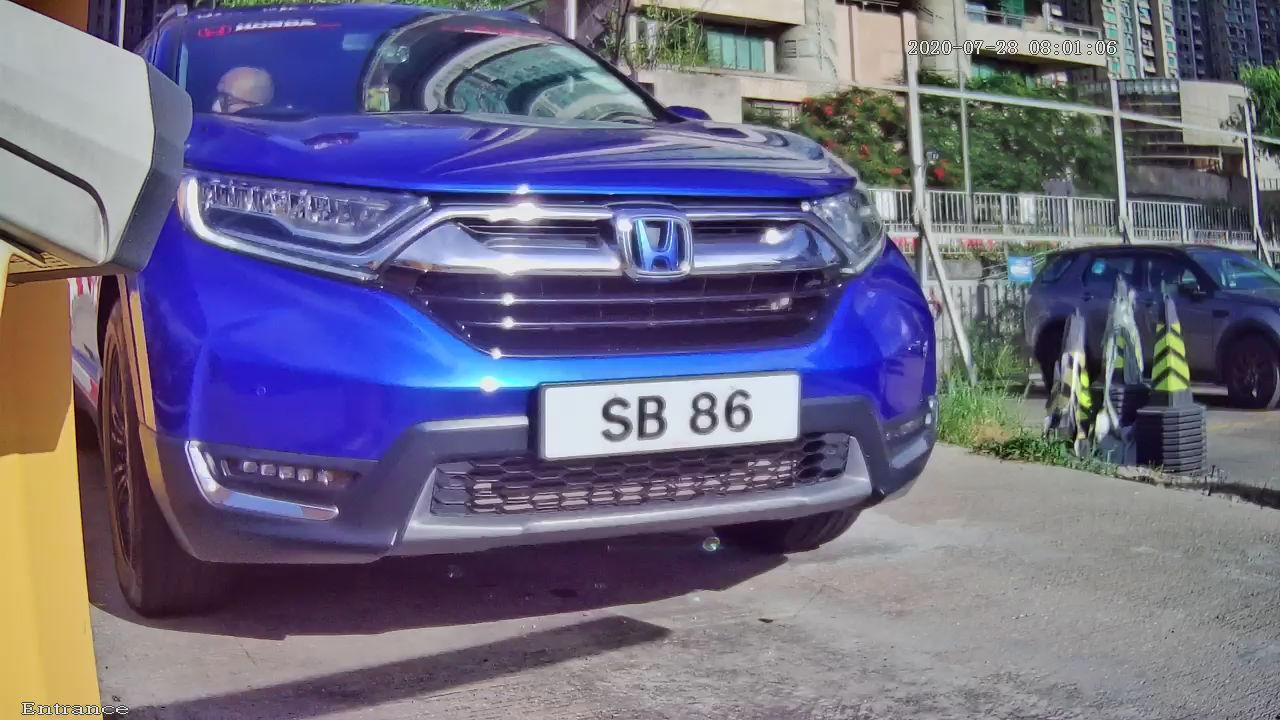privatecar: (12, 26, 1041, 631)
